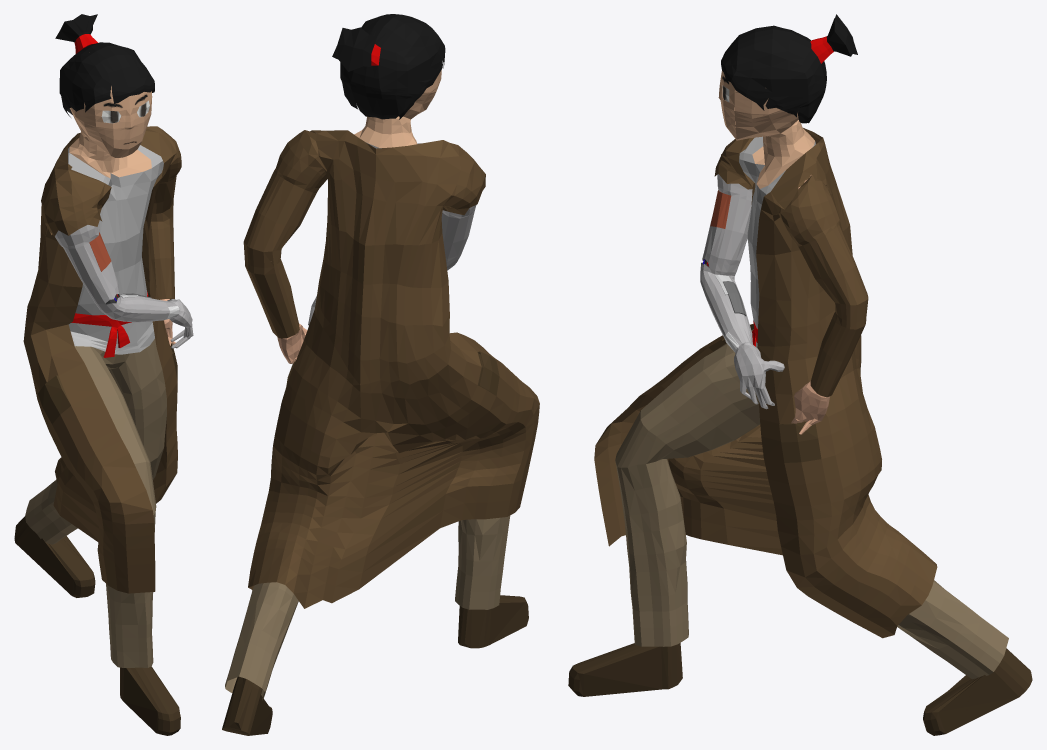
Rendered from One_DF_000001.obj.
3 views of the same model, side by side, from view 1: azimuth 30°, elevation 25°; view 2: azimuth 150°, elevation 25°; view 3: azimuth 270°, elevation 25° (orthographic). The views are drawn at different scales.
Parts seen in each view (by area): view 1: Hair_Cube.004; view 2: Hair_Cube.004; view 3: Hair_Cube.004.
Boxes of the visible parts, bbox=[...] form: Hair_Cube.004: bbox=[14, 14, 193, 735]; Hair_Cube.004: bbox=[222, 14, 539, 735]; Hair_Cube.004: bbox=[568, 14, 1032, 735].
Bounding box in the file's own units: 1.08 × 3.64 × 2.22.
